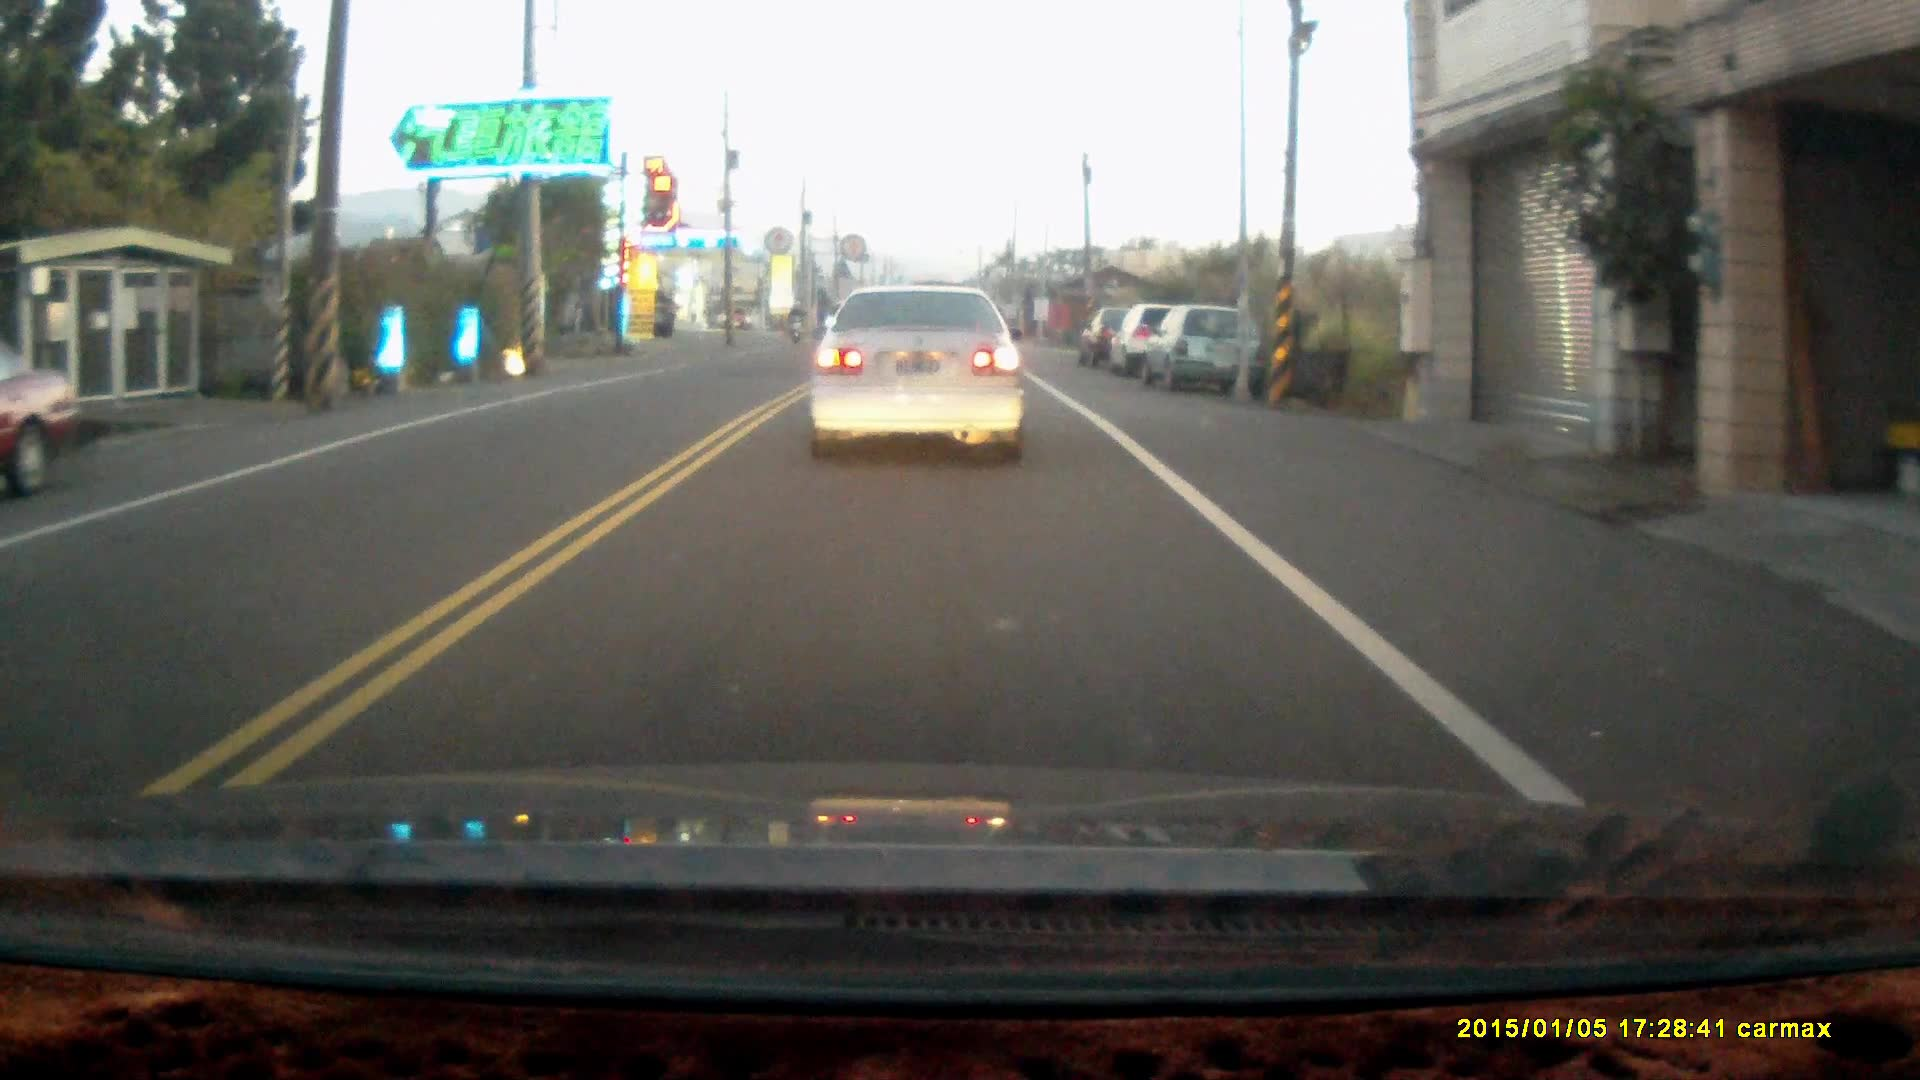vehicle: (808, 278, 1029, 462), (1149, 303, 1266, 402), (1, 347, 80, 488), (1116, 298, 1211, 371), (1075, 305, 1171, 367)
